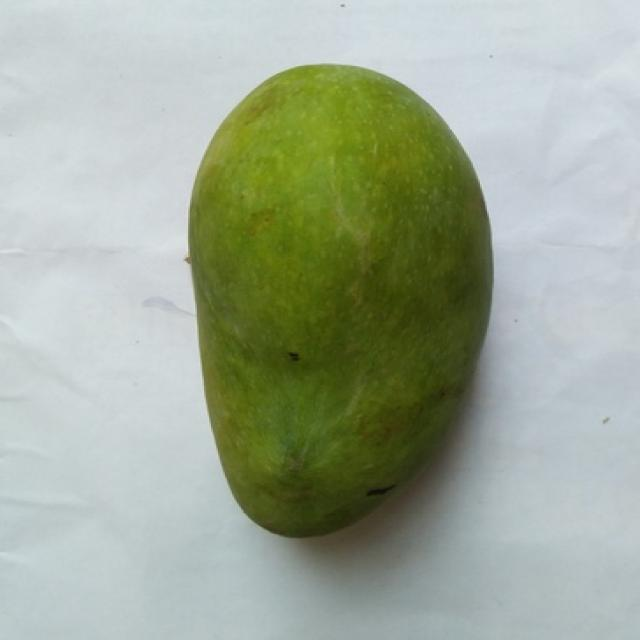Mango: (188, 65, 491, 537)
